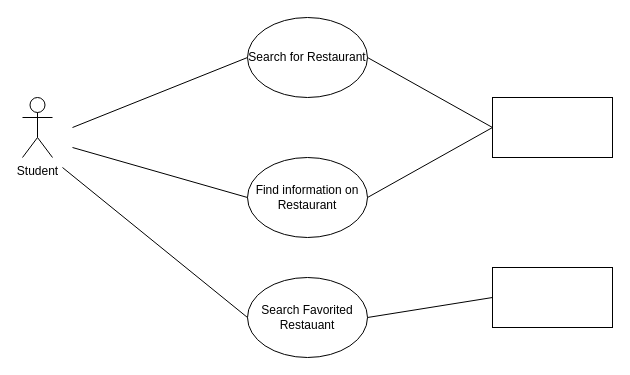
Some shapes in this 630 by 375 pixel diagram are drawn without their labels. Here are the shapes that lost their labels. From the top down, the box of each, then its label:
(492, 96, 612, 158): Search
(492, 266, 612, 328): Customer Database
